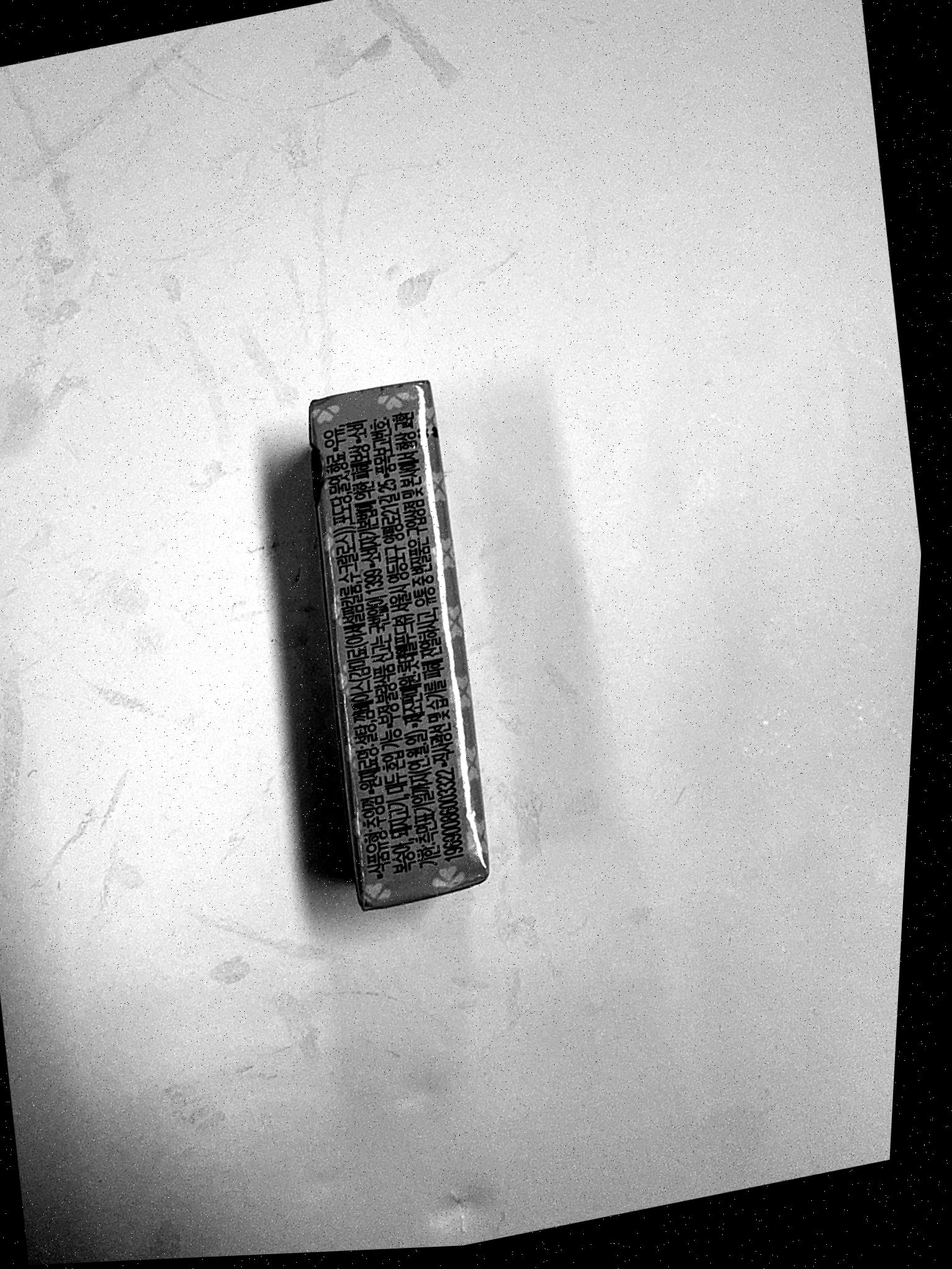gum_yellow: (305, 381, 493, 911)
